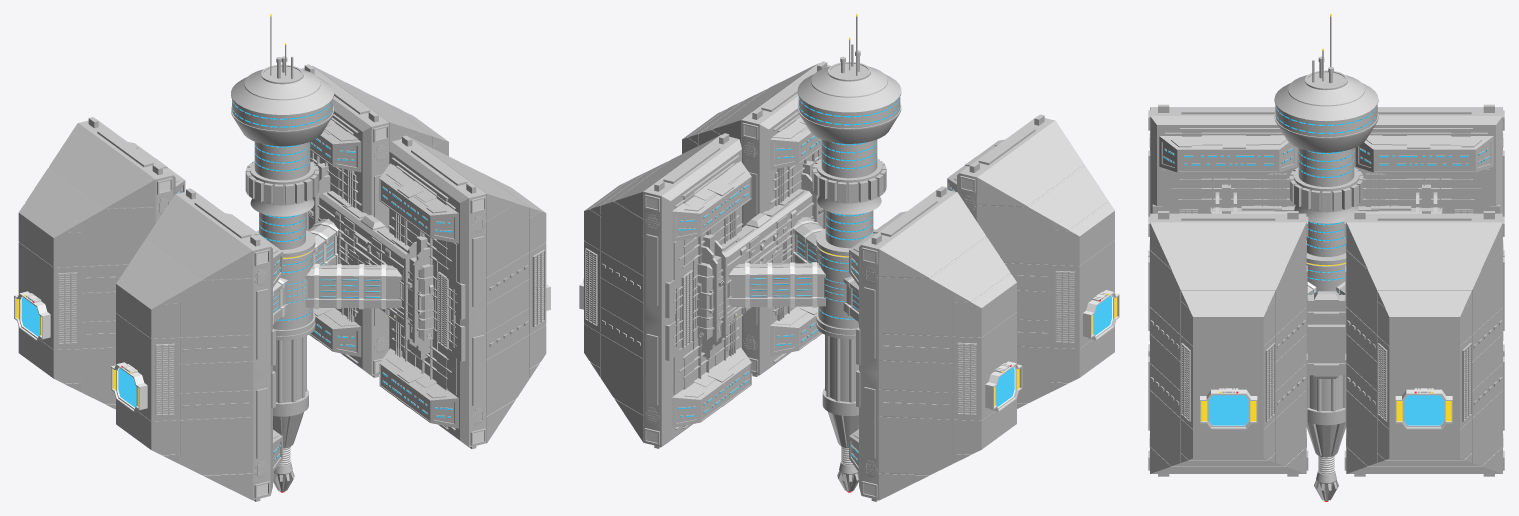
File: spaceStation.glb
3 renders of one model, left to right at view 1: azimuth 30°, elevation 25°; view 2: azimuth 150°, elevation 25°; view 3: azimuth 270°, elevation 25°, orthographic.
Parts seen in each view (by area): view 1: HullPlates, OuterSection, CentralSection, MainGreebles2, Bridges, CentralSectionGreebles, MainGreebles, Docks, OuterSectionConnectors, OuterSectionHolders; view 2: HullPlates, OuterSection, CentralSection, MainGreebles2, Bridges, CentralSectionGreebles, MainGreebles, Docks, OuterSectionConnectors, OuterSectionHolders; view 3: HullPlates, OuterSection, CentralSection, MainGreebles2, Docks, OuterSectionConnectors, CentralSectionGreebles, OuterSectionHolders, MainGreebles, Antennas.
Part boxes in pixels (bbox=[...]): HullPlates: bbox=[18, 66, 546, 500]; OuterSection: bbox=[19, 64, 545, 501]; CentralSection: bbox=[231, 64, 333, 492]; MainGreebles2: bbox=[128, 114, 465, 438]; Bridges: bbox=[273, 218, 402, 324]; CentralSectionGreebles: bbox=[245, 161, 319, 491]; MainGreebles: bbox=[308, 191, 434, 338]; Docks: bbox=[14, 280, 550, 412]; OuterSectionConnectors: bbox=[317, 192, 433, 341]; OuterSectionHolders: bbox=[306, 163, 429, 359]; HullPlates: bbox=[584, 63, 1114, 500]; OuterSection: bbox=[584, 61, 1114, 501]; CentralSection: bbox=[797, 62, 901, 492]; MainGreebles2: bbox=[665, 111, 1004, 438]; Bridges: bbox=[728, 217, 858, 323]; CentralSectionGreebles: bbox=[812, 158, 886, 491]; MainGreebles: bbox=[696, 189, 823, 337]; Docks: bbox=[579, 278, 1119, 411]; OuterSectionConnectors: bbox=[696, 190, 814, 340]; OuterSectionHolders: bbox=[701, 160, 825, 358]; HullPlates: bbox=[1150, 107, 1502, 473]; OuterSection: bbox=[1148, 104, 1504, 476]; CentralSection: bbox=[1274, 70, 1378, 501]; MainGreebles2: bbox=[1152, 128, 1500, 213]; Docks: bbox=[1200, 388, 1452, 429]; OuterSectionConnectors: bbox=[1210, 207, 1442, 378]; CentralSectionGreebles: bbox=[1289, 167, 1363, 500]; OuterSectionHolders: bbox=[1215, 184, 1437, 213]; MainGreebles: bbox=[1241, 205, 1411, 299]; Antennas: bbox=[1312, 14, 1333, 83].
Size of the model in its own units: 35.97 by 39.95 by 26.77.
